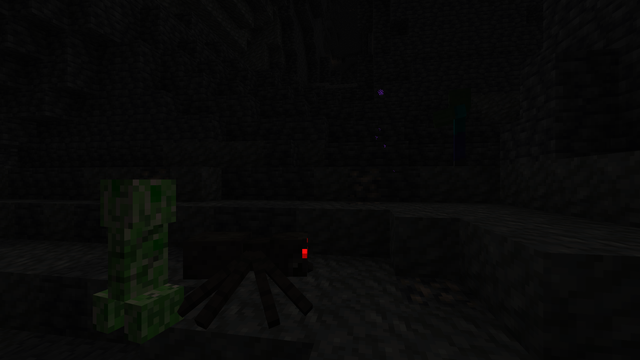araignees: (200, 220, 315, 322)
creepers: (89, 171, 181, 342)
zombies: (444, 89, 475, 166)
